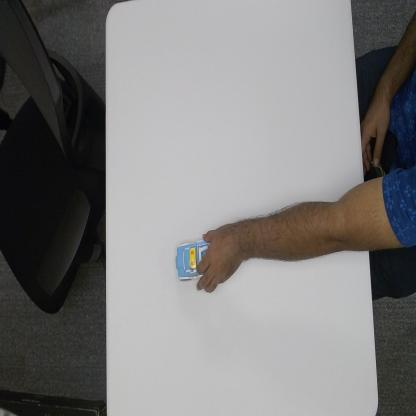Arm: (246, 184, 369, 262)
Car: (174, 240, 211, 281)
Hand: (196, 224, 241, 292)
